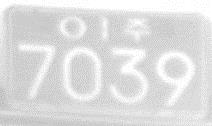0: (62, 45, 102, 101), (57, 15, 87, 40)
1: (93, 17, 118, 40)
3: (109, 47, 148, 105)
7: (17, 43, 57, 99)
9: (155, 50, 196, 107)
주: (122, 17, 152, 43)
